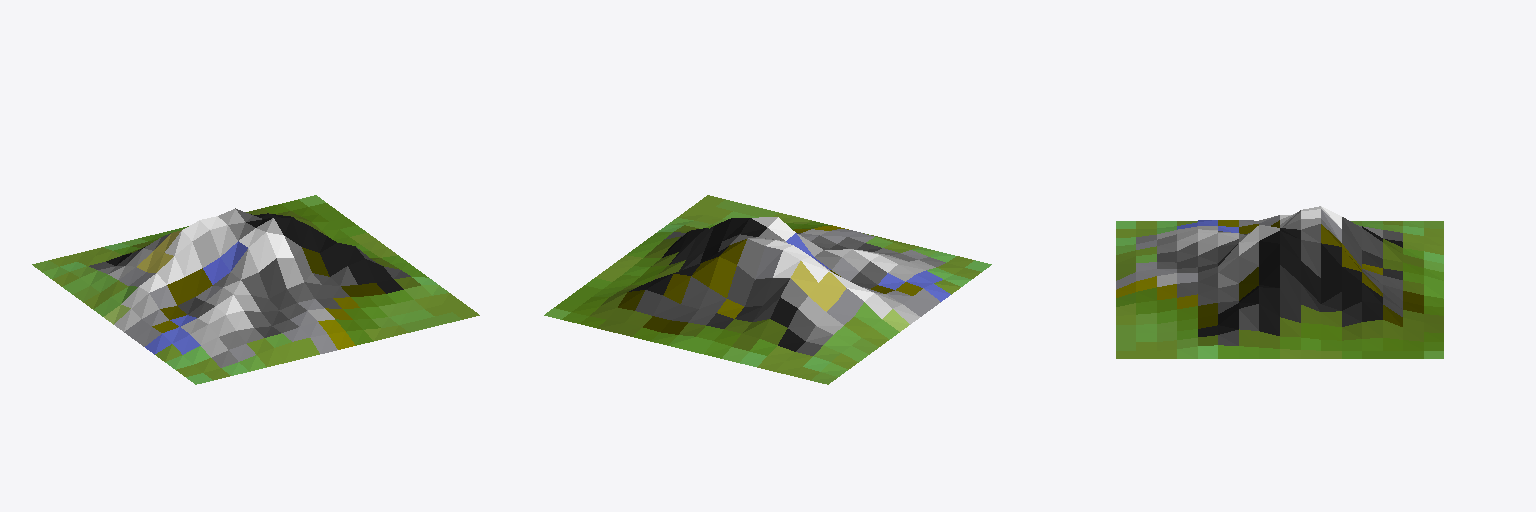
The picture shows the model from 3 angles: view 1: azimuth 30°, elevation 25°; view 2: azimuth 150°, elevation 25°; view 3: azimuth 270°, elevation 25°; orthographic projection.
Parts seen in each view (by area): view 1: mountains0; view 2: mountains0; view 3: mountains0.
Boxes of the visible parts, x1=… form: mountains0: x1=32, y1=195, x2=479, y2=384; mountains0: x1=544, y1=195, x2=991, y2=384; mountains0: x1=1116, y1=206, x2=1443, y2=358.
Size of the model in its own units: 1 by 0.2281 by 1.
Materials: 1 (1 with a texture image).